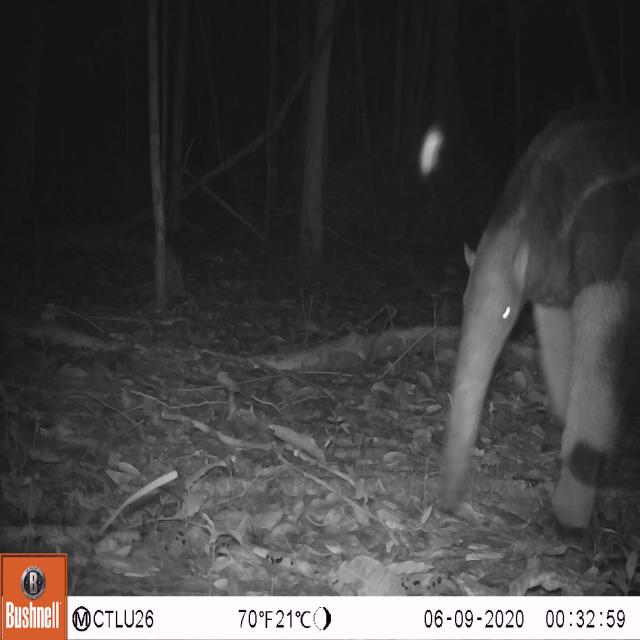Giant Anteater: (424, 78, 640, 540)
